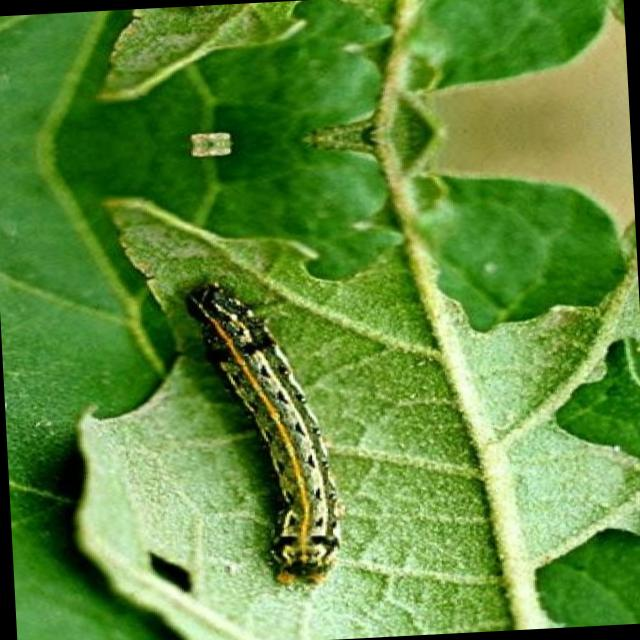Armyworm: (181, 268, 370, 599)
Armyworm_damage: (141, 529, 226, 601)
